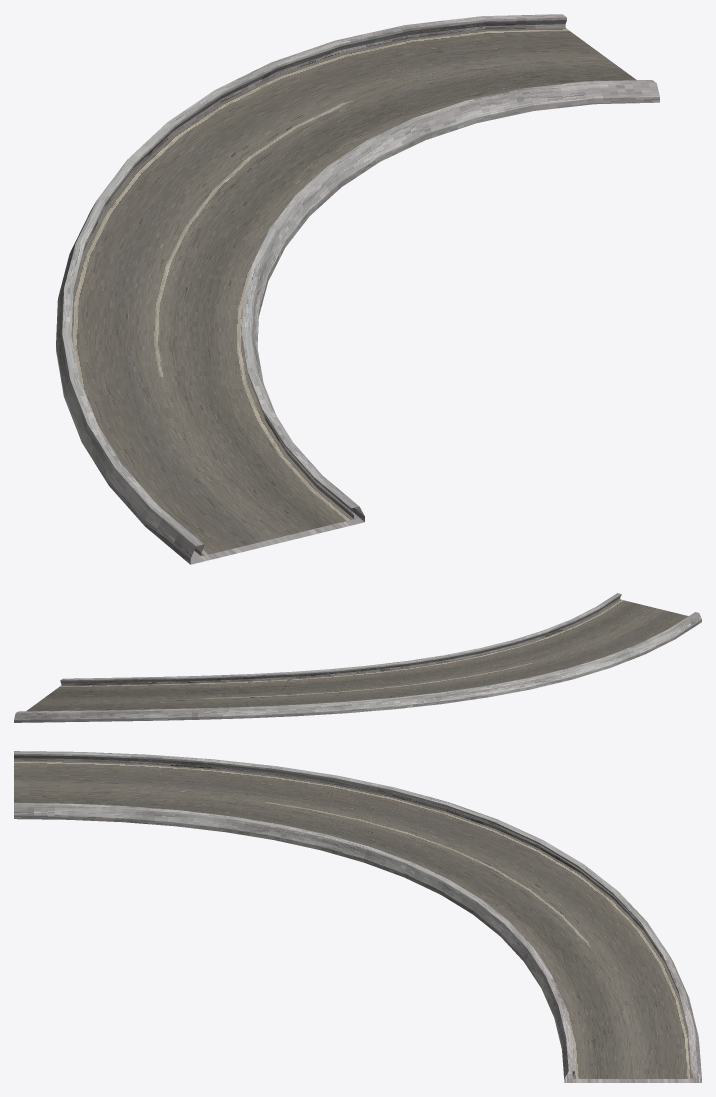
Rendered from road-Turn-Flat-BiSlopeDown-Down1-Right-Size5.glb.
The picture shows the model from 3 angles, top to bottom: view 1: azimuth 30°, elevation 25°; view 2: azimuth 150°, elevation 25°; view 3: azimuth 270°, elevation 25°; orthographic projection. The views are drawn at different scales.
Visible parts, largest first — view 1: road-Turn-Flat-BiSlopeDown-Down1-Right-Size5; view 2: road-Turn-Flat-BiSlopeDown-Down1-Right-Size5; view 3: road-Turn-Flat-BiSlopeDown-Down1-Right-Size5.
Boxes of the visible parts, x1,y1,x2,y2 form: road-Turn-Flat-BiSlopeDown-Down1-Right-Size5: (56,14,659,564); road-Turn-Flat-BiSlopeDown-Down1-Right-Size5: (14,593,701,722); road-Turn-Flat-BiSlopeDown-Down1-Right-Size5: (14,751,701,1082).
Size of the model in its own units: 5 by 0.4802 by 5.
Materials: 2 (2 with a texture image).
